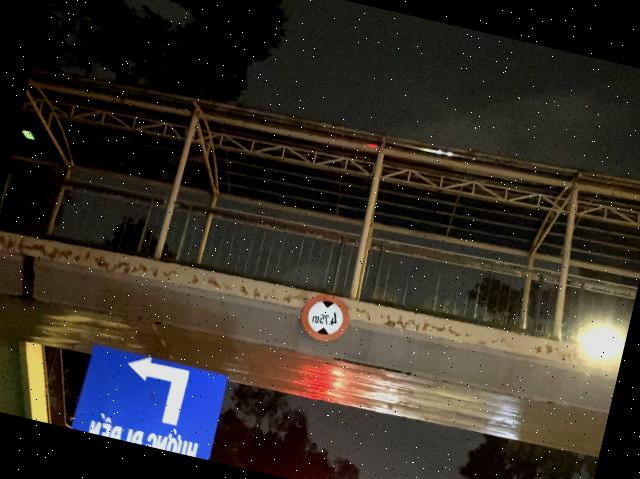han-che-chieu-cao: (298, 290, 352, 346)
